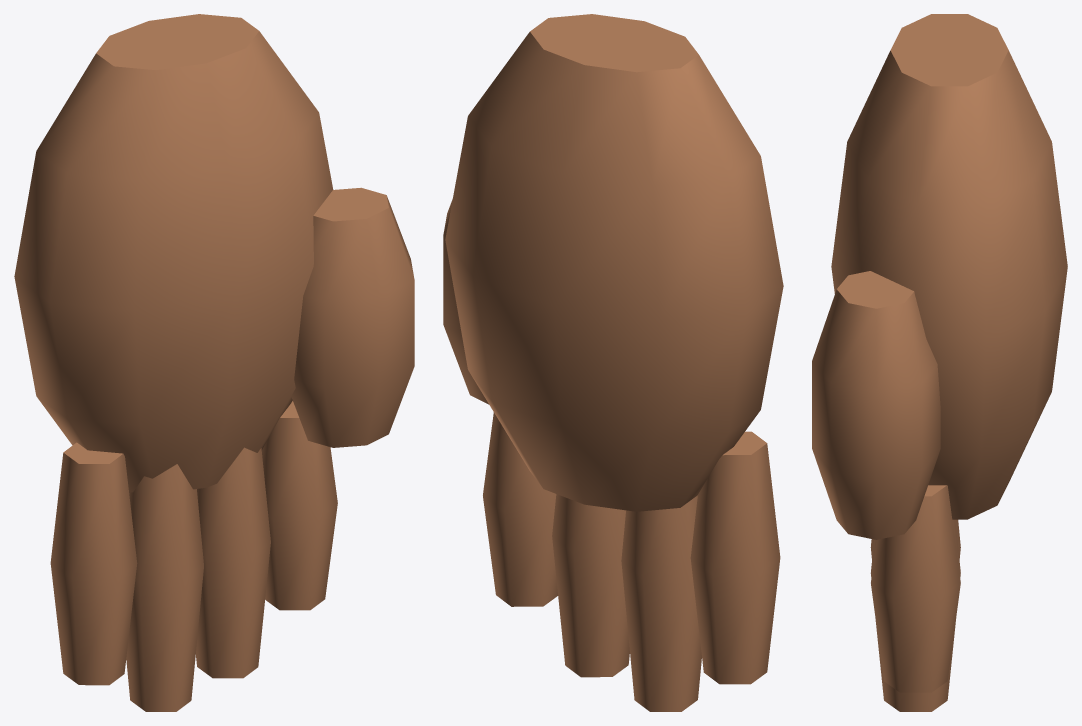
The model's file is mano_der.obj.
The picture shows the model from 3 angles, left to right: view 1: azimuth 30°, elevation 25°; view 2: azimuth 150°, elevation 25°; view 3: azimuth 270°, elevation 25°; orthographic projection. The views are drawn at different scales.
Visible parts, largest first — view 1: mano_der; view 2: mano_der; view 3: mano_der.
Part boxes in pixels (bbox=[...]): mano_der: bbox=[14, 14, 414, 711]; mano_der: bbox=[443, 14, 783, 711]; mano_der: bbox=[812, 14, 1067, 711].
Size of the model in its own units: 0.0717 by 0.1276 by 0.0454.
